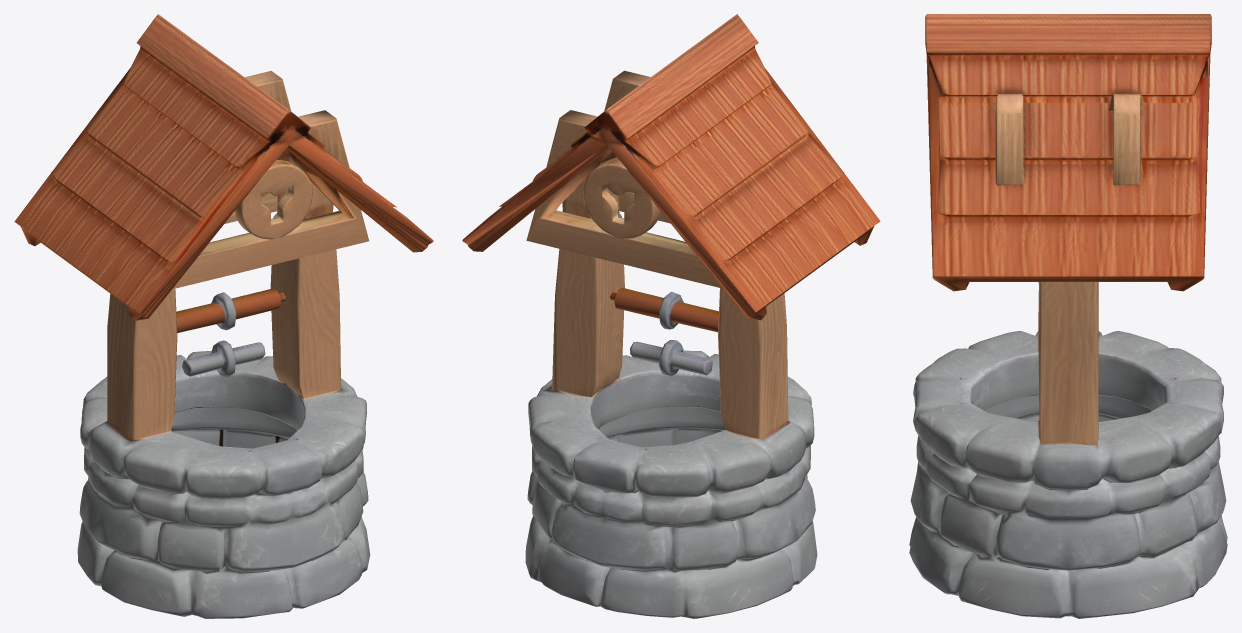
The model's file is estate_covered_well.glb.
3 renders of one model, left to right at view 1: azimuth 30°, elevation 25°; view 2: azimuth 150°, elevation 25°; view 3: azimuth 270°, elevation 25°, orthographic. The views are drawn at different scales.
Size of the model in its own units: 1.18 by 1.91 by 1.01.
Materials: 1 (1 with a texture image).
